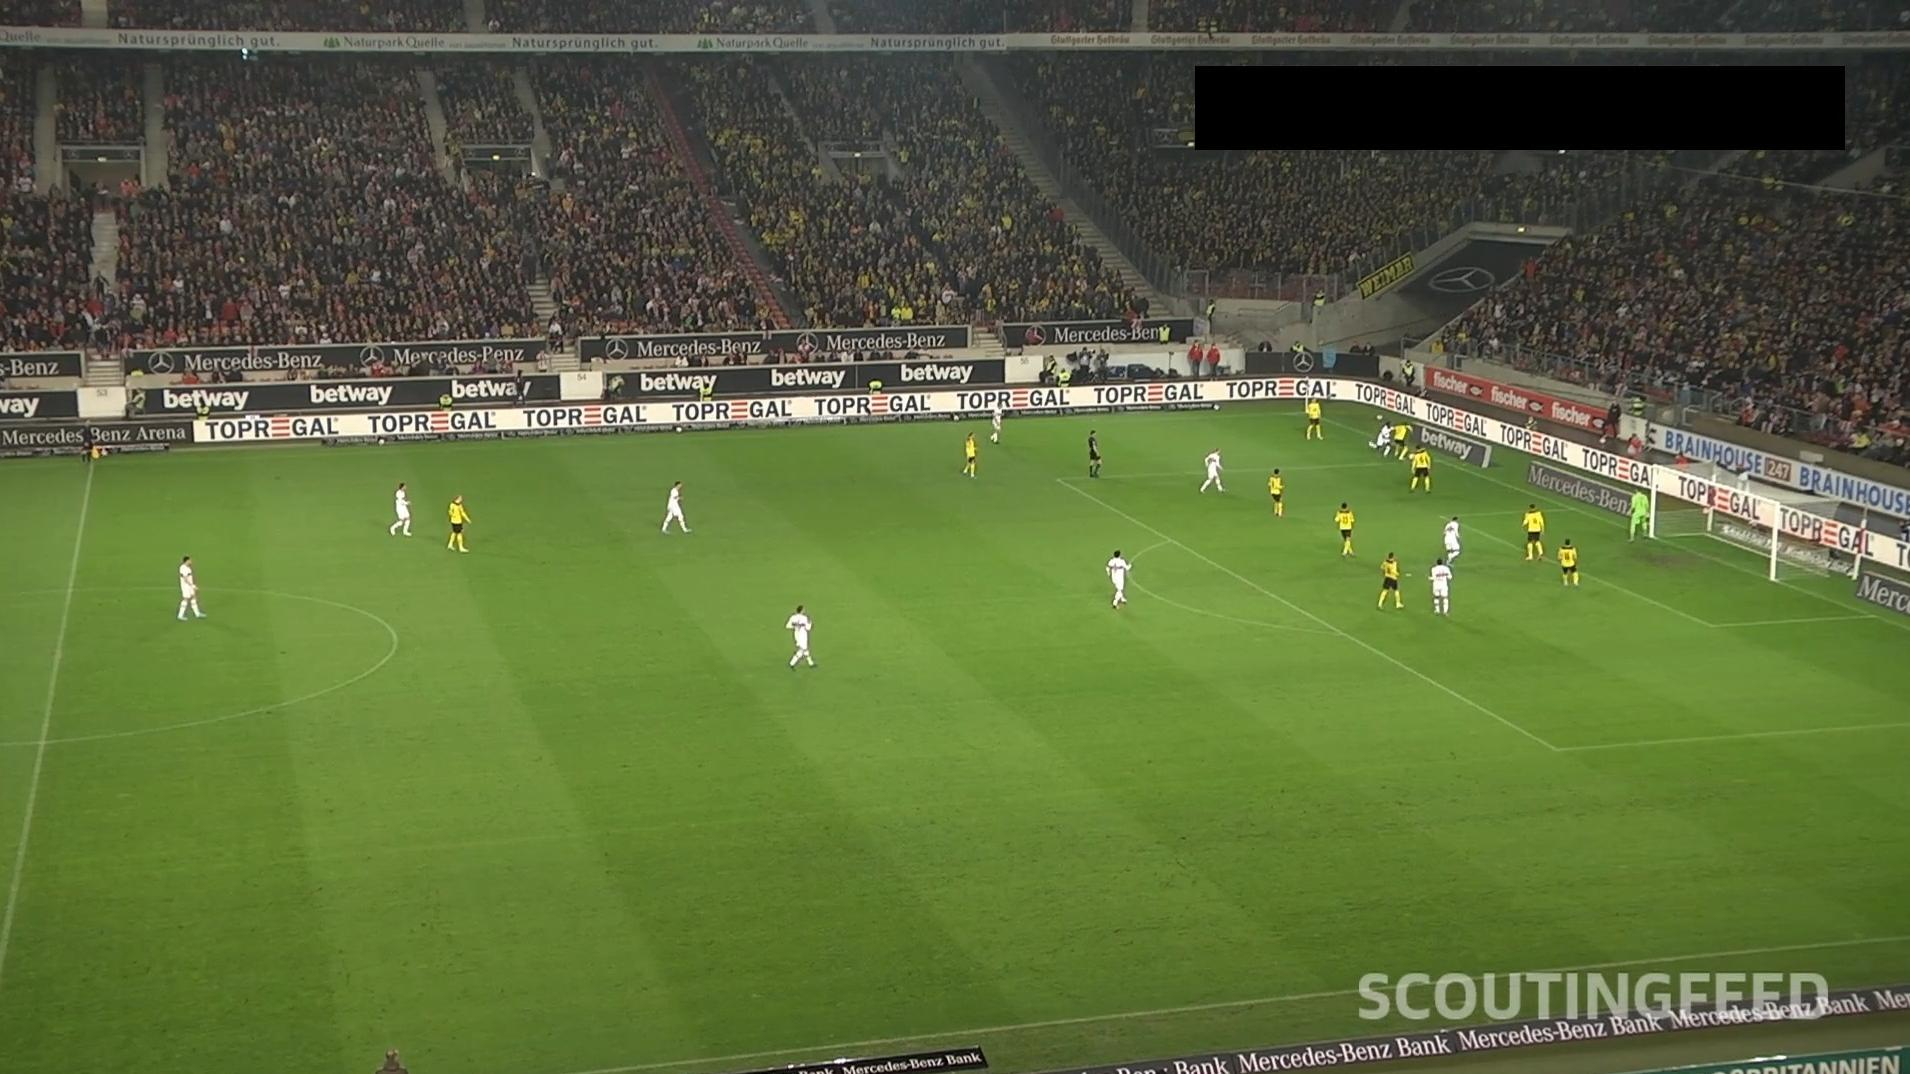ball: (1406, 451, 1415, 462)
